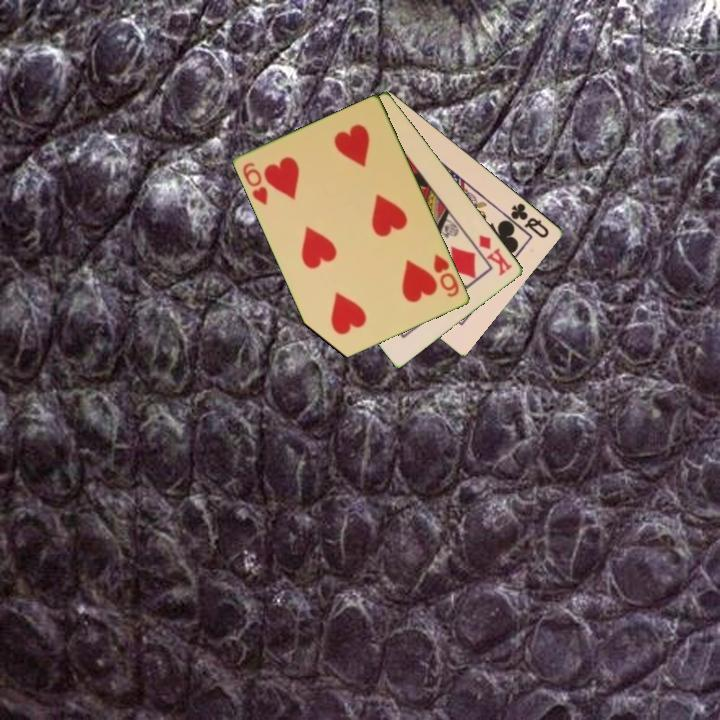6h: (430, 250, 462, 300), (239, 159, 271, 208)
Kd: (475, 231, 516, 279)
Qc: (502, 199, 552, 241)
